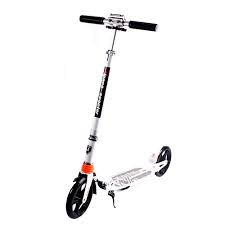kick_board: (65, 12, 171, 217)
kick_handler: (79, 14, 159, 36)
kick_neck: (83, 48, 112, 163)
kick_wheel: (65, 178, 93, 218), (153, 145, 171, 177)
